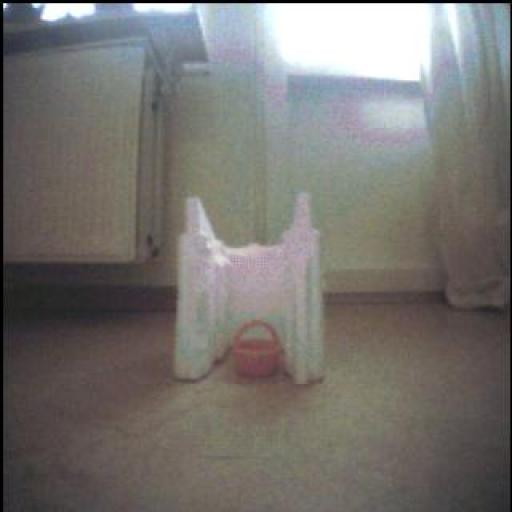Basket: (233, 321, 281, 379)
